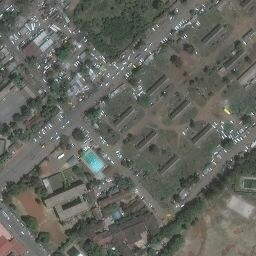tree: (21, 216, 36, 229), (72, 128, 86, 140), (35, 232, 49, 244), (26, 98, 41, 109), (170, 55, 182, 67), (202, 187, 214, 199), (209, 178, 221, 190), (85, 108, 98, 119), (183, 44, 195, 55), (221, 138, 233, 149), (34, 185, 47, 195), (121, 159, 134, 169), (138, 96, 150, 106), (179, 178, 190, 188), (149, 144, 160, 154), (21, 106, 31, 117), (151, 1, 164, 9), (188, 174, 199, 183), (99, 95, 110, 104), (132, 67, 143, 75), (242, 115, 251, 124), (223, 168, 232, 177), (147, 248, 157, 256), (233, 40, 243, 47), (72, 166, 80, 174), (173, 195, 180, 202), (189, 120, 195, 128)
